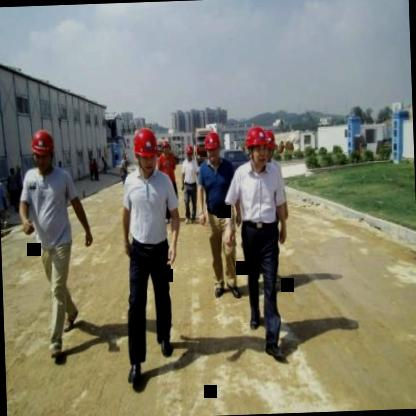helmet: (131, 126, 162, 174), (30, 126, 61, 172), (244, 126, 269, 164), (202, 124, 224, 167), (262, 130, 276, 168), (162, 138, 172, 158), (184, 144, 194, 162)
